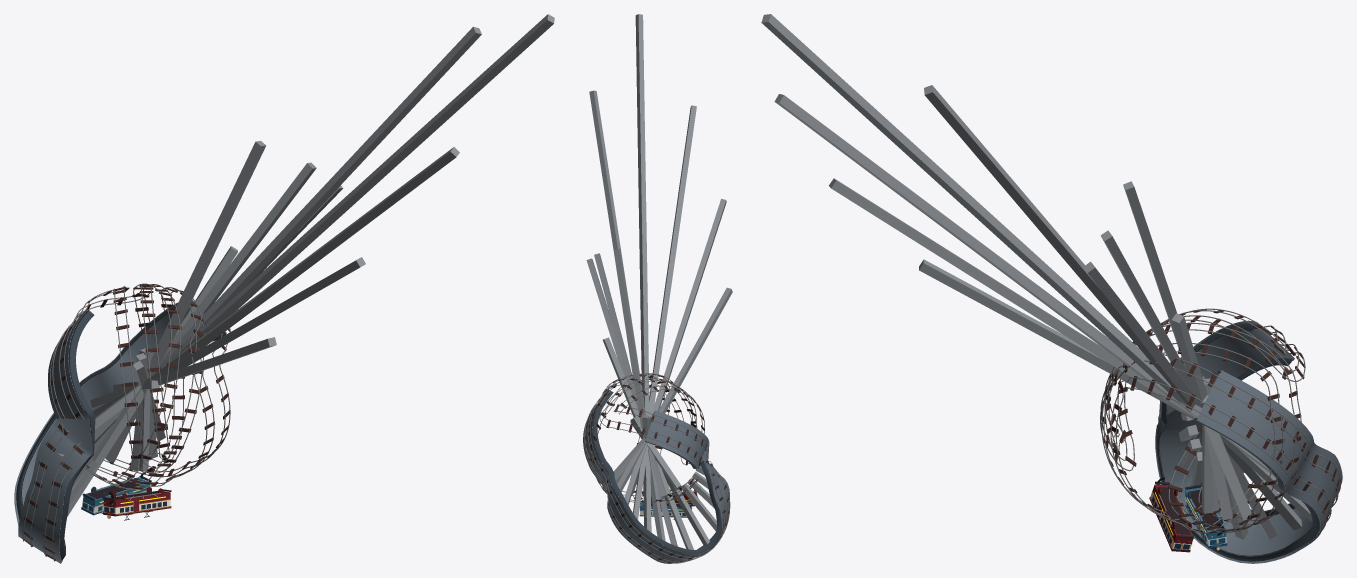
File: tramSystem.glb
3 views of the same model, side by side, from view 1: azimuth 30°, elevation 25°; view 2: azimuth 150°, elevation 25°; view 3: azimuth 270°, elevation 25° (orthographic). The views are drawn at different scales.
Parts seen in each view (by area): view 1: n219, n241, n243, n239, n229, n245, n237, n110, n235, n216, n108, n214 (+5 smaller); view 2: n219, n241, n239, n243, n237, n223, n235, n245, n229, n247, n227, n214 (+8 smaller); view 3: n219, n241, n239, n243, n237, n235, n245, n221, n108, n110, n227, n214 (+6 smaller).
Boxes of the visible parts, left/top/right/bottom form: n219: left=14, top=300, right=226, bottom=563; n241: left=141, top=14, right=554, bottom=387; n243: left=136, top=26, right=481, bottom=386; n239: left=95, top=147, right=459, bottom=417; n229: left=105, top=140, right=266, bottom=462; n245: left=92, top=162, right=316, bottom=456; n237: left=92, top=257, right=365, bottom=416; n110: left=44, top=286, right=225, bottom=556; n235: left=90, top=337, right=276, bottom=407; n216: left=23, top=283, right=207, bottom=541; n108: left=52, top=287, right=230, bottom=561; n214: left=30, top=284, right=214, bottom=547; n219: left=583, top=389, right=730, bottom=563; n241: left=635, top=14, right=651, bottom=532; n239: left=633, top=105, right=696, bottom=519; n243: left=589, top=90, right=665, bottom=541; n237: left=624, top=198, right=726, bottom=504; n223: left=593, top=390, right=721, bottom=554; n235: left=617, top=287, right=732, bottom=491; n245: left=594, top=253, right=677, bottom=546; n229: left=614, top=249, right=645, bottom=429; n247: left=602, top=337, right=693, bottom=549; n227: left=586, top=258, right=666, bottom=497; n214: left=587, top=373, right=726, bottom=559; n219: left=1155, top=320, right=1342, bottom=563; n241: left=761, top=14, right=1312, bottom=521; n239: left=774, top=94, right=1274, bottom=476; n243: left=924, top=85, right=1302, bottom=530; n237: left=829, top=178, right=1196, bottom=417; n235: left=919, top=259, right=1195, bottom=418; n245: left=1100, top=230, right=1277, bottom=539; n221: left=1156, top=323, right=1319, bottom=561; n108: left=1100, top=308, right=1326, bottom=533; n110: left=1100, top=310, right=1331, bottom=530; n227: left=1083, top=261, right=1244, bottom=472; n214: left=1103, top=315, right=1338, bottom=525.
Bounding box in the file's own units: 25.55 × 45.65 × 34.36.
41 materials, 6 textured.
